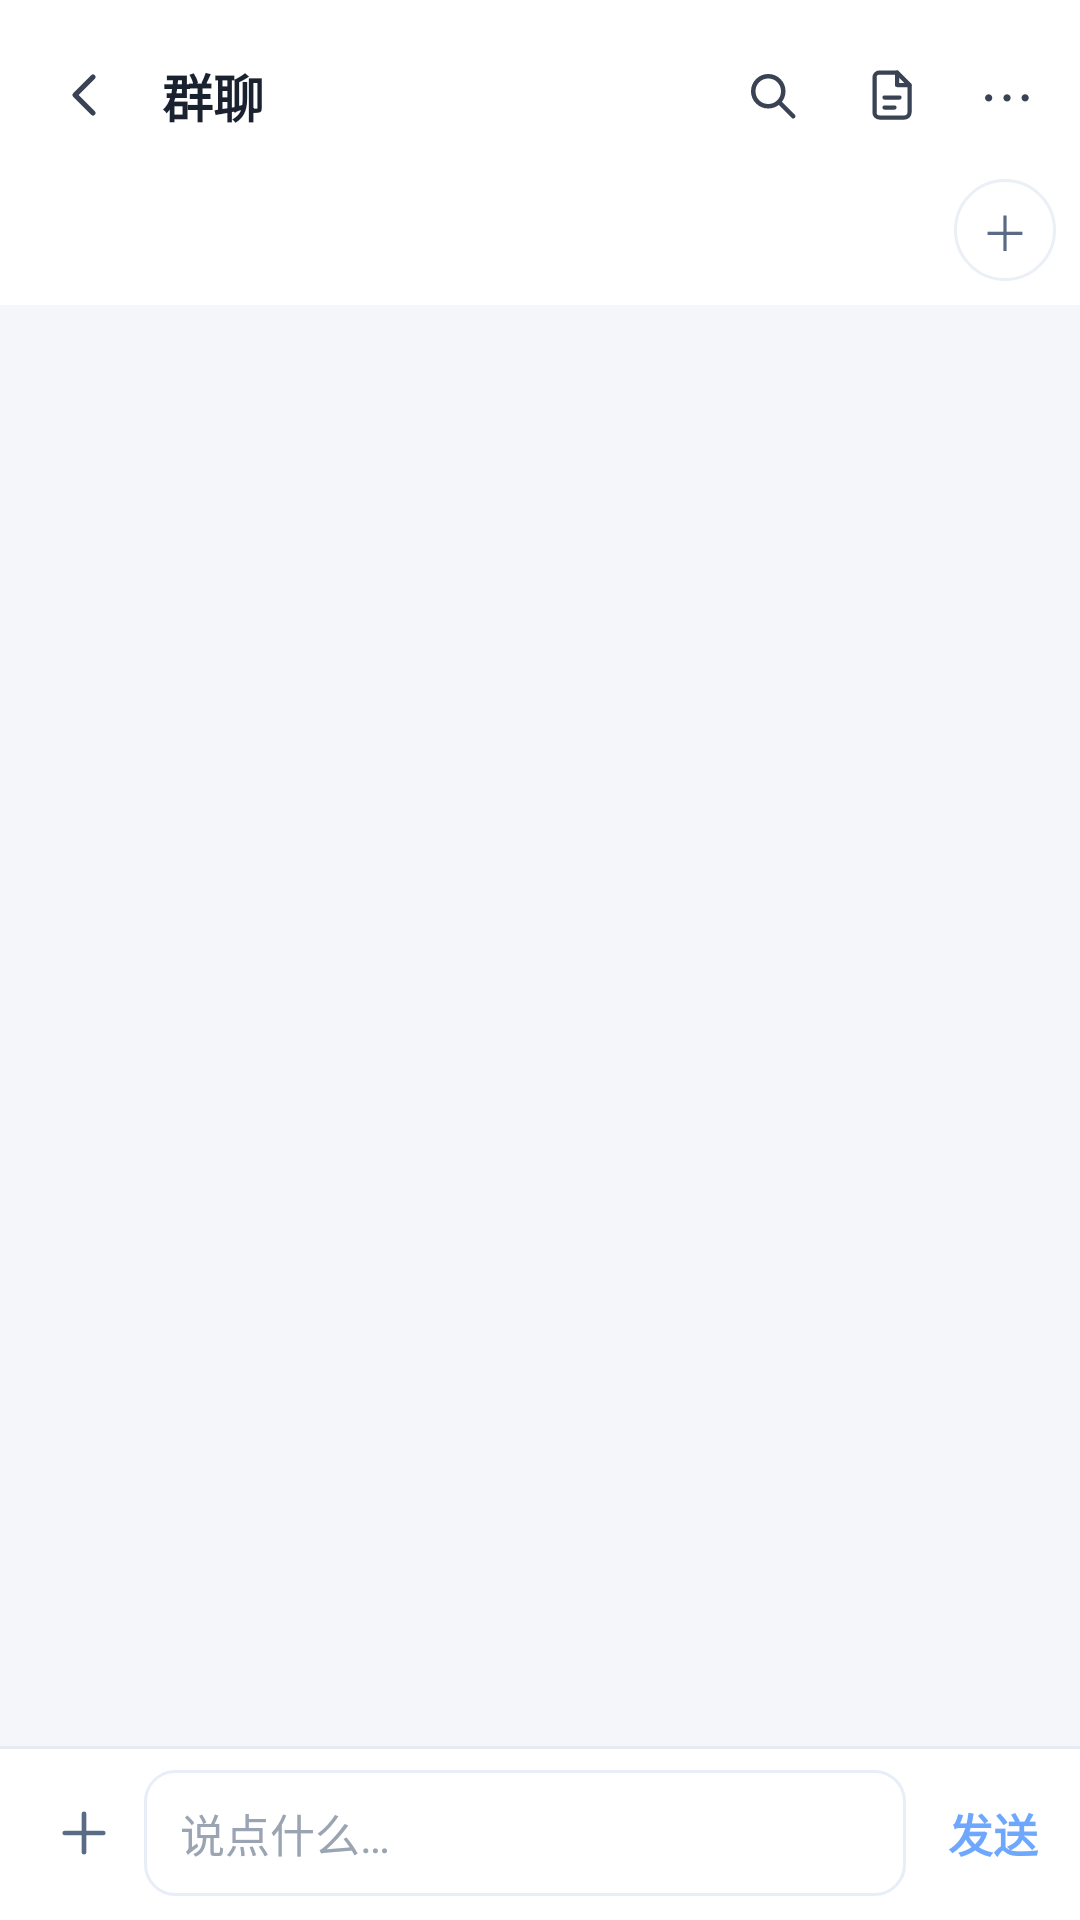

Where to tap for icons on this 1080×1920 app screen, as [x,y]:
搜索当前频道: [773,96]
更多操作：续写、旁白、配图: [84,1833]
返回: [84,95]
